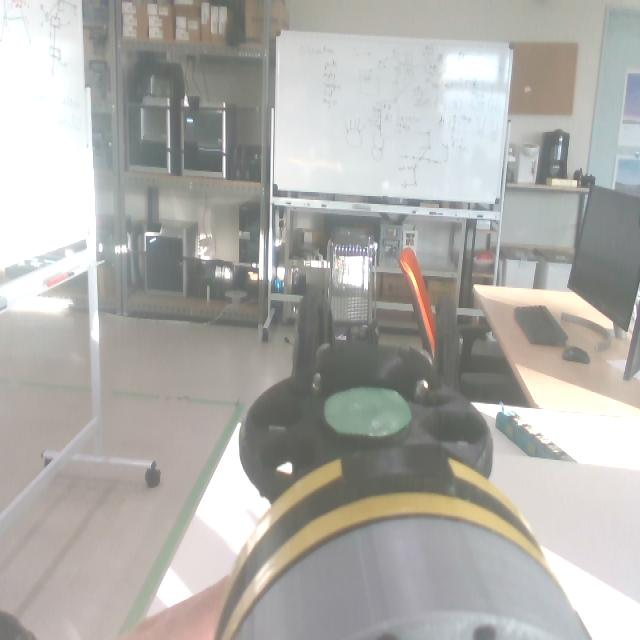body_connector: (233, 516, 592, 640)
connection: (202, 449, 591, 640)
leg: (214, 288, 547, 640)
leg_connector: (218, 448, 554, 638)
marker: (320, 384, 411, 438)
